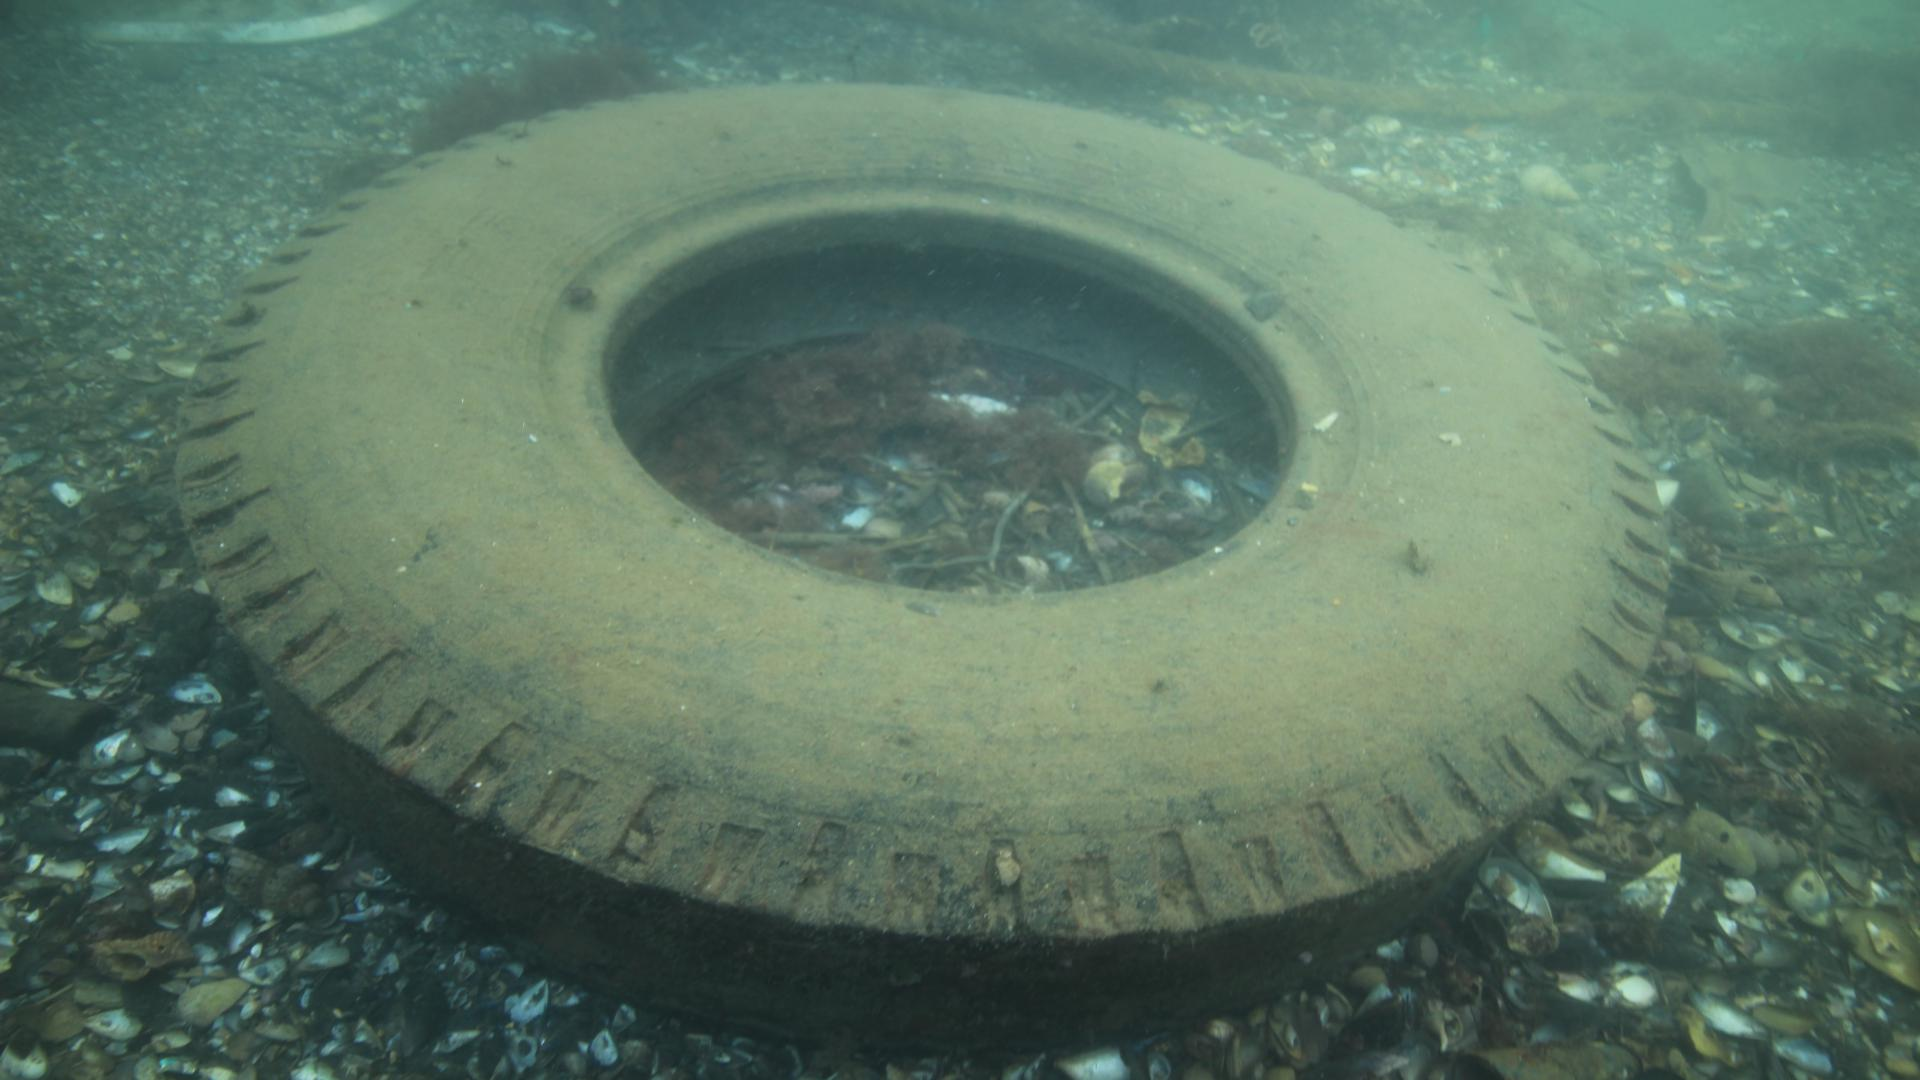rope: (862, 0, 1799, 138)
tire: (171, 84, 1673, 1039)
